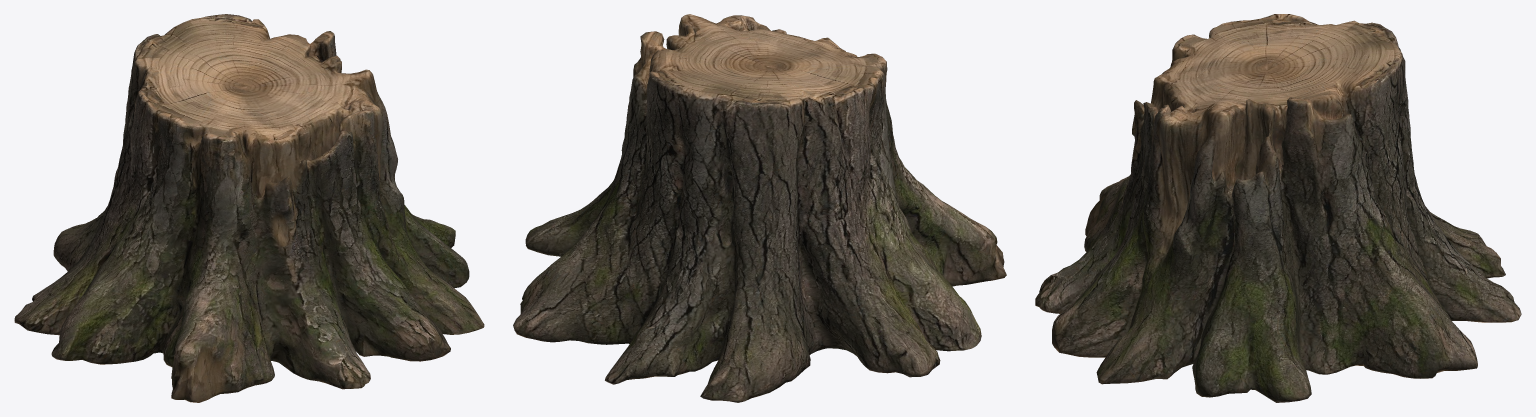
The model's file is stump__timeworn-stump.glb.
The picture shows the model from 3 angles, left to right: view 1: azimuth 30°, elevation 25°; view 2: azimuth 150°, elevation 25°; view 3: azimuth 270°, elevation 25°; orthographic projection. The views are drawn at different scales.
Bounding box in the file's own units: 1.89 × 1.06 × 1.83.
1 material, 1 textured.
